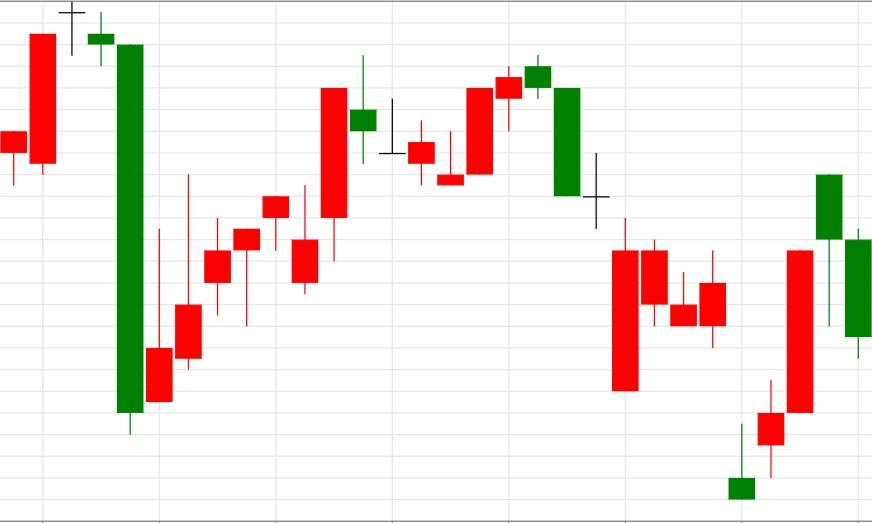inverse_hammer_rise: (523, 53, 756, 501)
